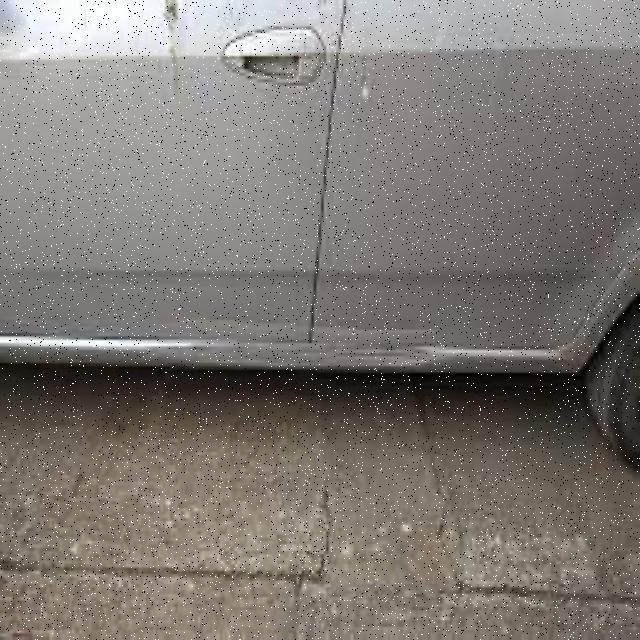RunningBoard-Dent: (104, 336, 455, 386)
doorouter-dent: (317, 0, 638, 343), (2, 0, 318, 343)
